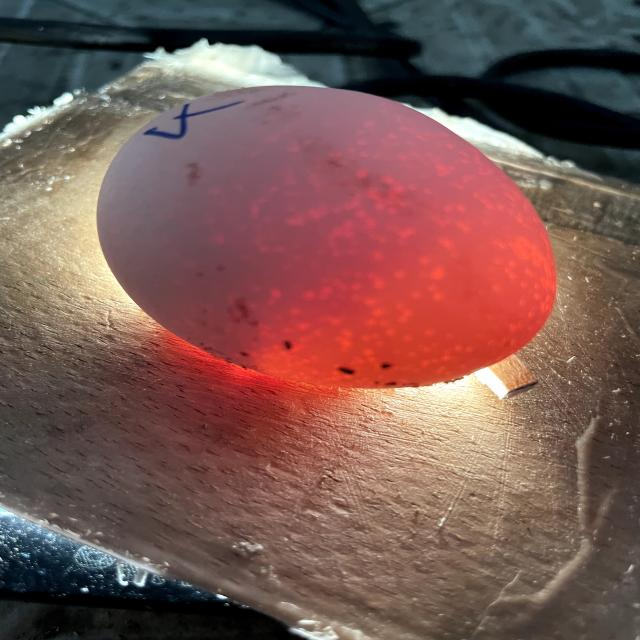fertile: (97, 86, 557, 387)
